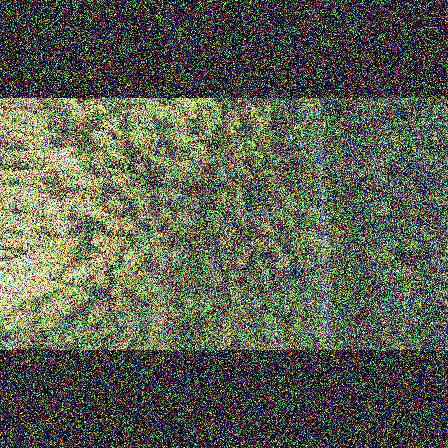Sick: (165, 250, 183, 267), (265, 327, 283, 343), (102, 219, 121, 233), (136, 208, 152, 223), (231, 159, 244, 176), (183, 295, 197, 310), (429, 240, 441, 253)
